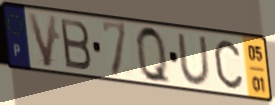7: (100, 18, 130, 81)
B: (58, 16, 94, 73)
C: (212, 38, 245, 91)
Q: (134, 23, 173, 88)
U: (175, 32, 213, 88)
V: (25, 11, 59, 70)
